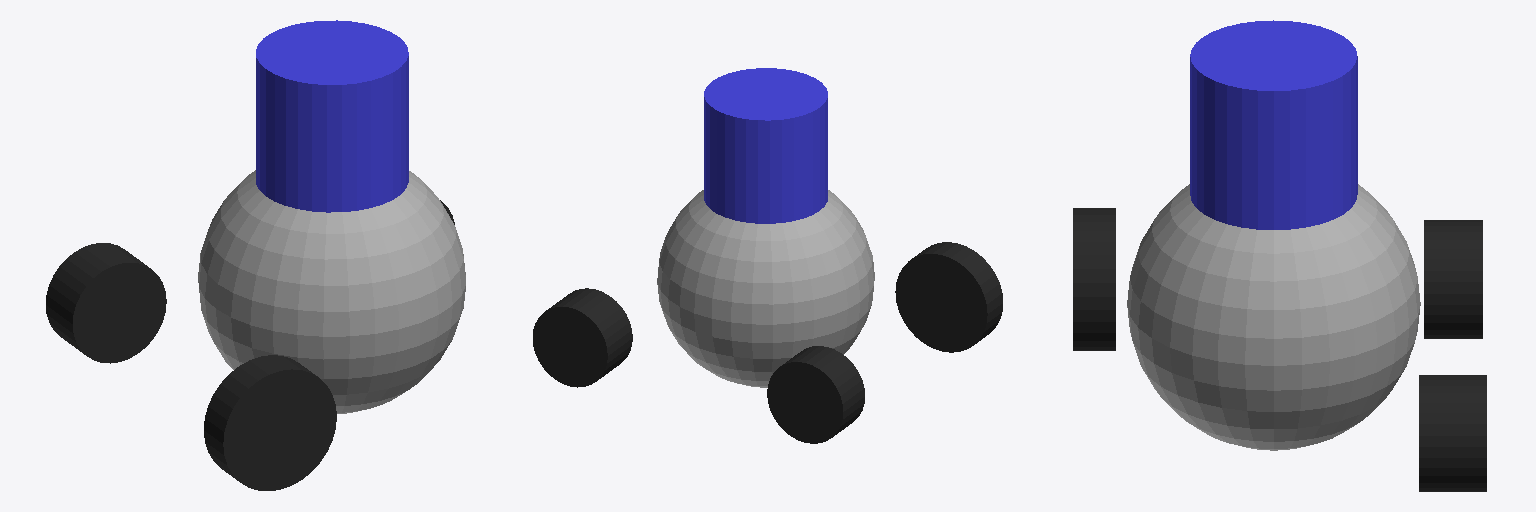
robot.urdf — evolved_robot:
<?xml version="1.0"?>
<robot name="evolved_robot">
  <material name="metal">
    <color rgba="0.7 0.7 0.7 1.0"/>
  </material>
  <material name="plastic">
    <color rgba="0.3 0.3 0.9 1.0"/>
  </material>
  <material name="rubber">
    <color rgba="0.1 0.1 0.1 1.0"/>
  </material>
  <material name="red">
    <color rgba="1.0 0.0 0.0 1.0"/>
  </material>
  <material name="wheel_material">
    <color rgba="0.2 0.2 0.2 1.0"/>
  </material>
  <link name="base_link">
    <visual>
      <geometry><sphere radius="0.1334194524776269"/></geometry>
      <material name="metal"/>
    </visual>
    <collision>
      <geometry><sphere radius="0.1334194524776269"/></geometry>
    </collision>
    <inertial>
      <mass value="5.0"/>
      <inertia ixx="0.07120300119771898" ixy="0" ixz="0" 
               iyy="0.07120300119771898" iyz="0" 
               izz="0.07120300119771898"/>
    </inertial>
  </link>
  <link name="link1">
    <visual>
      <geometry><cylinder radius="0.06832226063216805" length="0.10286232654100702"/></geometry>
      <material name="metal"/>
    </visual>
    <collision>
      <geometry><cylinder radius="0.06832226063216805" length="0.10286232654100702"/></geometry>
    </collision>
    <inertial>
      <mass value="0.5"/>
      <inertia ixx="0.0020487043429248714" ixy="0" ixz="0" 
               iyy="0.0020487043429248714" iyz="0" 
               izz="0.00233396564894495"/>
    </inertial>
  </link>
  <joint name="joint1" type="revolute">
    <parent link="base_link"/>
    <child link="link1"/>
    <origin xyz="0 0 0.05250503414224125" rpy="0 0 0"/>
    <axis xyz="-0.9071257192755172 0.046240837988530625 0.4183117429991584"/>
    <dynamics damping="0.7503600790991359" friction="0.1"/>
    <limit lower="-1.1148886608569202" upper="1.198355774240428" effort="100" velocity="100"/>
  </joint>
  <link name="link2">
    <visual>
      <geometry>
        <cylinder radius="0.053187408808199776" length="0.061231002226569284"/>
      </geometry>
      <material name="wheel_material"/>
    </visual>
    <collision>
      <geometry>
        <cylinder radius="0.053187408808199776" length="0.061231002226569284"/>
      </geometry>
    </collision>
    <inertial>
      <mass value="1.0"/>
      <inertia ixx="0.0010196614167384862" ixy="0" ixz="0" 
               iyy="0.0010196614167384862" iyz="0" 
               izz="0.0014144502278652835"/>
    </inertial>
  </link>
  <joint name="joint2" type="continuous">
    <parent link="base_link"/>
    <child link="link2"/>
    <origin xyz="0.16489100241196833 0.16286232087867117 -0.05250503414224125" rpy="1.5708 0 0"/>
    <axis xyz="0 0 1"/>
    <dynamics damping="0.47810400972945954" friction="0.1"/>
  </joint>
  <link name="link3">
    <visual>
      <geometry><sphere radius="0.07021641311283636"/></geometry>
      <material name="metal"/>
    </visual>
    <collision>
      <geometry><sphere radius="0.07021641311283636"/></geometry>
    </collision>
    <inertial>
      <mass value="0.5"/>
      <inertia ixx="0.001972137868172999" ixy="0" ixz="0" 
               iyy="0.001972137868172999" iyz="0" 
               izz="0.001972137868172999"/>
    </inertial>
  </link>
  <joint name="joint3" type="revolute">
    <parent link="base_link"/>
    <child link="link3"/>
    <origin xyz="0 0 0.10250503414224126" rpy="0 0 0"/>
    <axis xyz="-0.7274823855025107 -0.5864691608536511 -0.35612259427224063"/>
    <dynamics damping="0.6440764216696324" friction="0.1"/>
    <limit lower="-1.0894930069807167" upper="1.076985458047975" effort="100" velocity="100"/>
  </joint>
  <link name="link4">
    <visual>
      <geometry>
        <cylinder radius="0.05388719285618433" length="0.05367452649408354"/>
      </geometry>
      <material name="wheel_material"/>
    </visual>
    <collision>
      <geometry>
        <cylinder radius="0.05388719285618433" length="0.05367452649408354"/>
      </geometry>
    </collision>
    <inertial>
      <mass value="1.0"/>
      <inertia ixx="0.0009660369546769073" ixy="0" ixz="0" 
               iyy="0.0009660369546769073" iyz="0" 
               izz="0.001451914776959802"/>
    </inertial>
  </link>
  <joint name="joint4" type="continuous">
    <parent link="base_link"/>
    <child link="link4"/>
    <origin xyz="-0.16489100241196833 0.16286232087867117 -0.05250503414224125" rpy="1.5708 0 0"/>
    <axis xyz="0 0 1"/>
    <dynamics damping="0.7080001444660353" friction="0.1"/>
  </joint>
  <link name="link5">
    <visual>
      <geometry><cylinder radius="0.07607300154229807" length="0.19253504259142096"/></geometry>
      <material name="plastic"/>
    </visual>
    <collision>
      <geometry><cylinder radius="0.07607300154229807" length="0.19253504259142096"/></geometry>
    </collision>
    <inertial>
      <mass value="0.5"/>
      <inertia ixx="0.004535920609720311" ixy="0" ixz="0" 
               iyy="0.004535920609720311" iyz="0" 
               izz="0.002893550781827242"/>
    </inertial>
  </link>
  <joint name="joint5" type="revolute">
    <parent link="base_link"/>
    <child link="link5"/>
    <origin xyz="0 0 0.15250503414224126" rpy="0 0 0"/>
    <axis xyz="-0.18202997071459998 0.8657651341767051 -0.46617145151288897"/>
    <dynamics damping="0.7596484412116415" friction="0.1"/>
    <limit lower="-1.3526919166164892" upper="1.2817369474057763" effort="100" velocity="100"/>
  </joint>
  <link name="link6">
    <visual>
      <geometry>
        <cylinder radius="0.06512451233868993" length="0.03890231202530072"/>
      </geometry>
      <material name="wheel_material"/>
    </visual>
    <collision>
      <geometry>
        <cylinder radius="0.06512451233868993" length="0.03890231202530072"/>
      </geometry>
    </collision>
    <inertial>
      <mass value="1.0"/>
      <inertia ixx="0.0011864163502475324" ixy="0" ixz="0" 
               iyy="0.0011864163502475324" iyz="0" 
               izz="0.0021206010536760885"/>
    </inertial>
  </link>
  <joint name="joint6" type="continuous">
    <parent link="base_link"/>
    <child link="link6"/>
    <origin xyz="-0.16489100241196833 -0.16286232087867117 -0.05250503414224125" rpy="1.5708 0 0"/>
    <axis xyz="0 0 1"/>
    <dynamics damping="0.6961066817015324" friction="0.1"/>
  </joint>
</robot>

--- Render facts (derived) ---
Views: 3 orthographic renders of the robot side by side, from view 1: azimuth 30°, elevation 25°; view 2: azimuth 150°, elevation 25°; view 3: azimuth 270°, elevation 25°.
Robot: evolved_robot — 7 links, 6 joints (3 revolute, 3 continuous); root link base_link; default pose: all joints at 0.
Visible links, largest first — view 1: base_link, link5, link6, link4; view 2: base_link, link5, link6, link2, link4; view 3: base_link, link5, link2, link4, link6.
Boxes of the visible links, x1,y1,x2,y2 form: base_link: [198, 170, 465, 413]; link5: [256, 20, 408, 212]; link6: [204, 355, 336, 490]; link4: [46, 243, 166, 363]; base_link: [657, 190, 874, 387]; link5: [704, 68, 827, 223]; link6: [895, 242, 1002, 352]; link2: [533, 288, 632, 387]; link4: [767, 346, 864, 443]; base_link: [1127, 184, 1420, 450]; link5: [1190, 20, 1357, 229]; link2: [1419, 375, 1486, 491]; link4: [1424, 220, 1482, 338]; link6: [1073, 208, 1115, 350].
Bounding box of the posed robot: 0.4481 × 0.3758 × 0.3822 m (x, y, z).
Geometry: primitives only (box / cylinder / sphere), no mesh files.